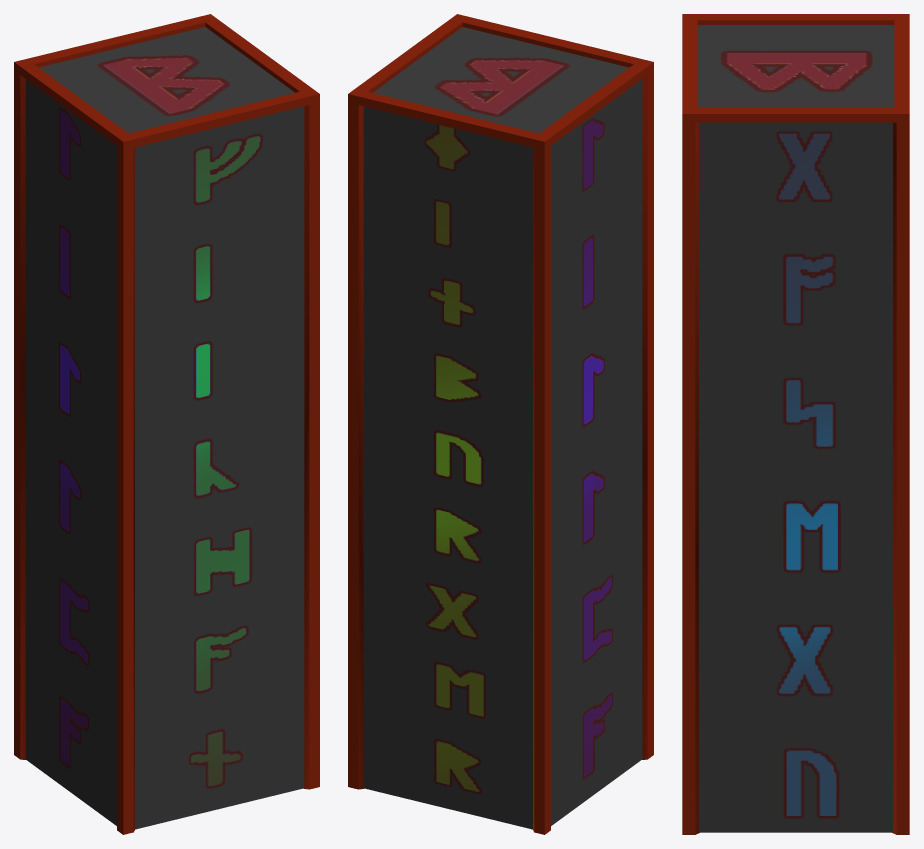
The model's file is Pushing Block(Rune).fbx.
The picture shows the model from 3 angles, left to right: view 1: azimuth 30°, elevation 25°; view 2: azimuth 150°, elevation 25°; view 3: azimuth 270°, elevation 25°; orthographic projection. The views are drawn at different scales.
Parts seen in each view (by area): view 1: Box001.001; view 2: Box001.001; view 3: Box001.001.
Part boxes in pixels (bbox=[...]): Box001.001: bbox=[14, 14, 319, 834]; Box001.001: bbox=[348, 14, 653, 834]; Box001.001: bbox=[682, 14, 909, 834].
Bounding box in the file's own units: 47.5 × 160 × 45.7.
